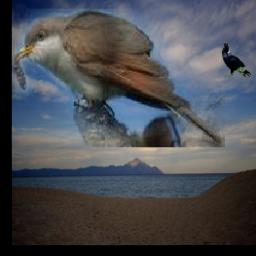Crow: (222, 41, 252, 78)
Cuckoo: (15, 9, 225, 147)
